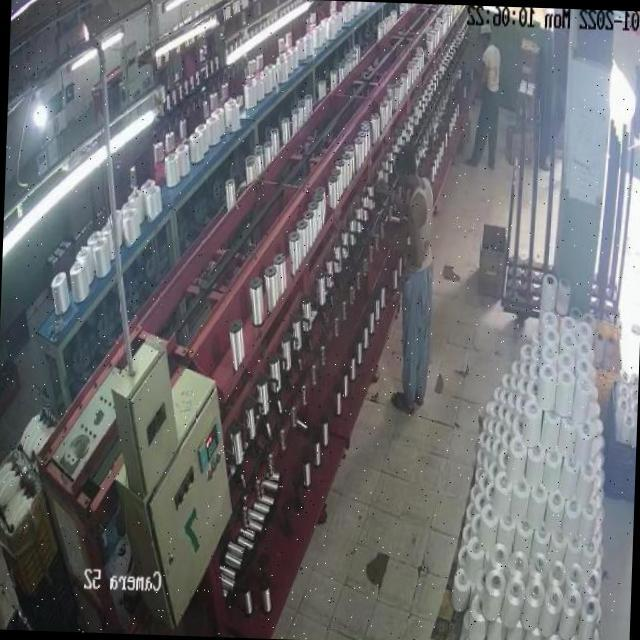person: (392, 148, 436, 404), (472, 26, 502, 166)
